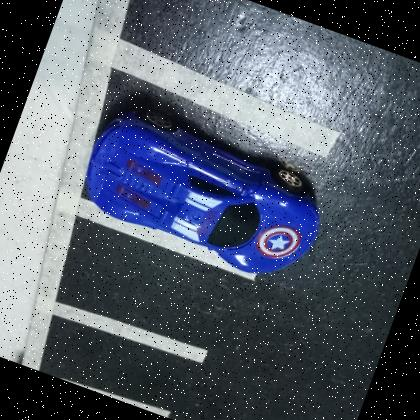Car: (70, 92, 341, 294)
